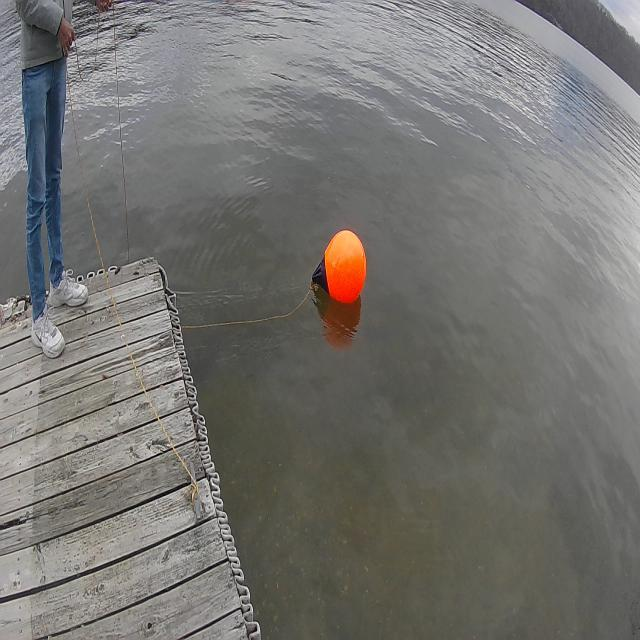Buoy: (310, 225, 369, 308)
